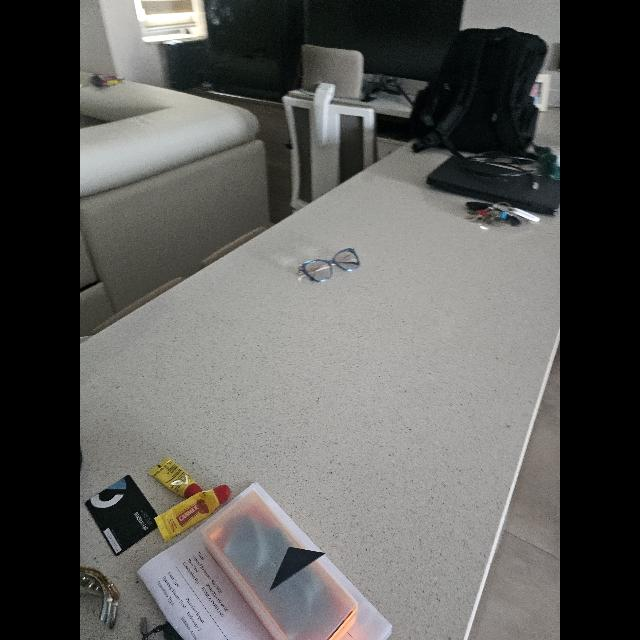Keys: (464, 202, 524, 228)
glasses: (298, 248, 359, 282)
